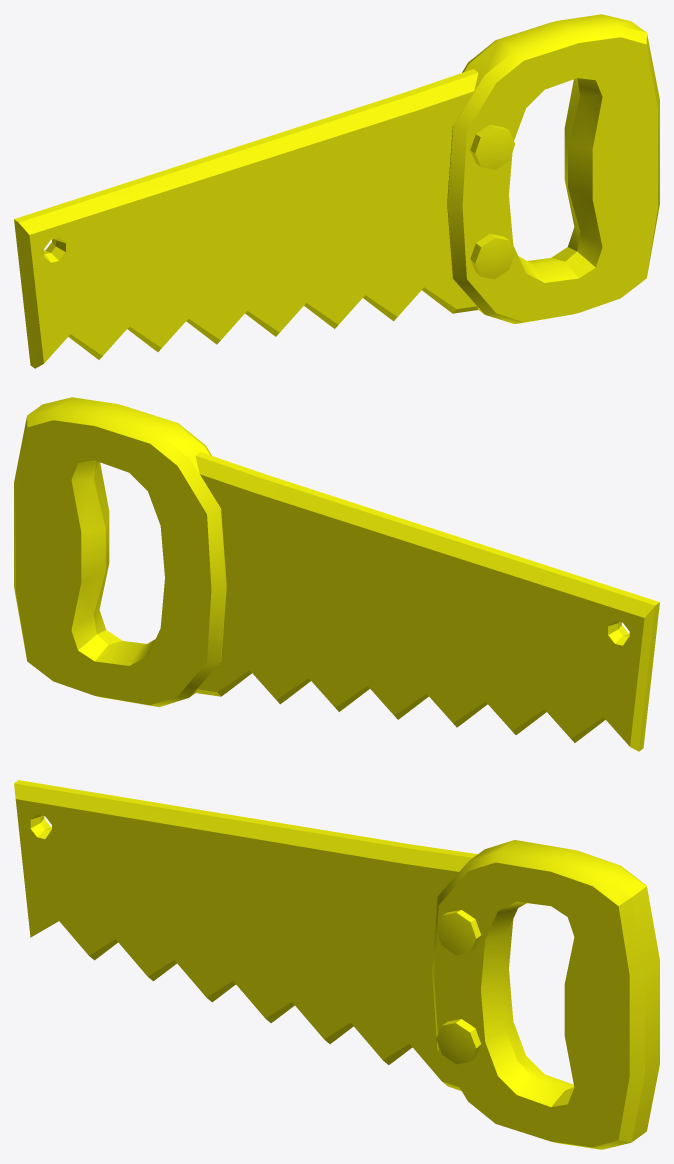
The model's file is kaykit-saw.glb.
3 views of the same model, one above another, from view 1: azimuth 30°, elevation 25°; view 2: azimuth 150°, elevation 25°; view 3: azimuth 330°, elevation 25° (orthographic).
Parts seen in each view (by area): view 1: saw; view 2: saw; view 3: saw.
Boxes of the visible parts, x1,y1,x2,y2 form: saw: (14, 14, 659, 368); saw: (14, 397, 659, 751); saw: (14, 780, 659, 1149).
Size of the model in its own units: 1.35 by 0.5711 by 0.1291.
